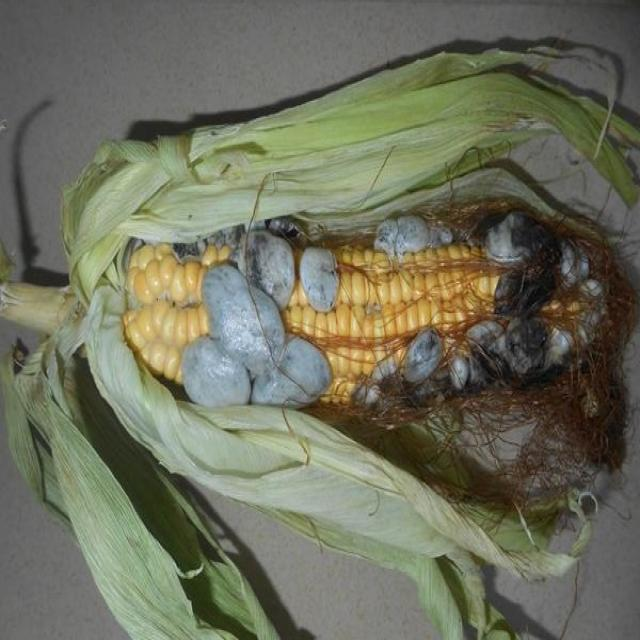Leaf_Scald: (68, 98, 630, 572)
